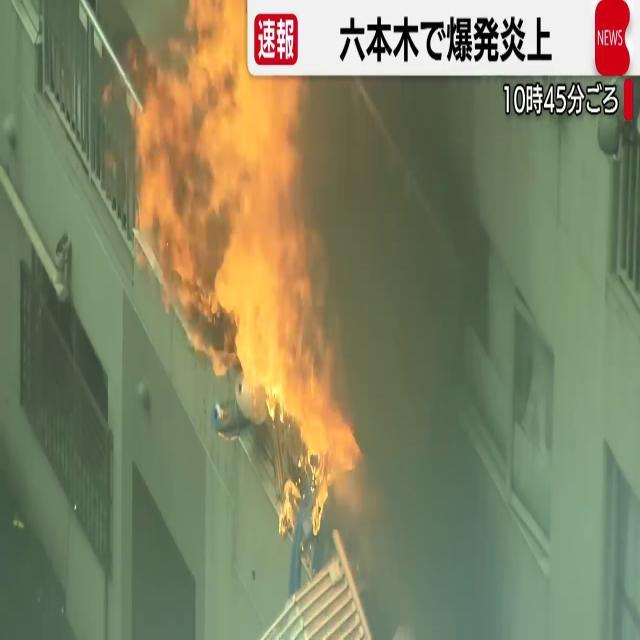Fire: (130, 1, 354, 460)
